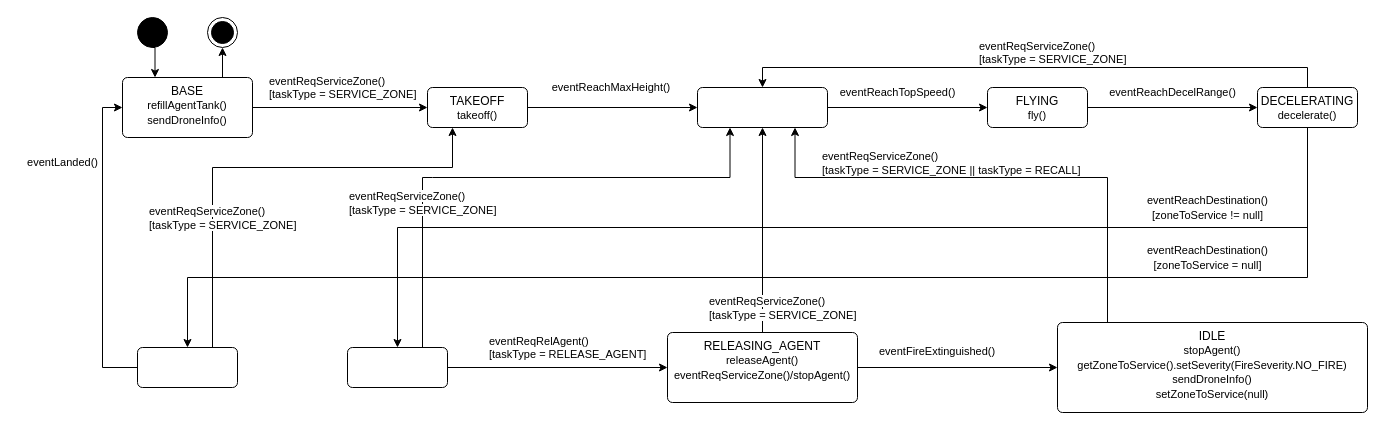
The diagram is 1385 pixels wide and 430 high, and some of its shapes have lost their labels. The centre of each missing label's shape, as x and y in pixels:
"ACCELERATING accelerate()" goes at pixel 762 107.
"ARRIVED sendDroneInfo()" goes at pixel 397 367.
"LANDING land()" goes at pixel 187 367.
